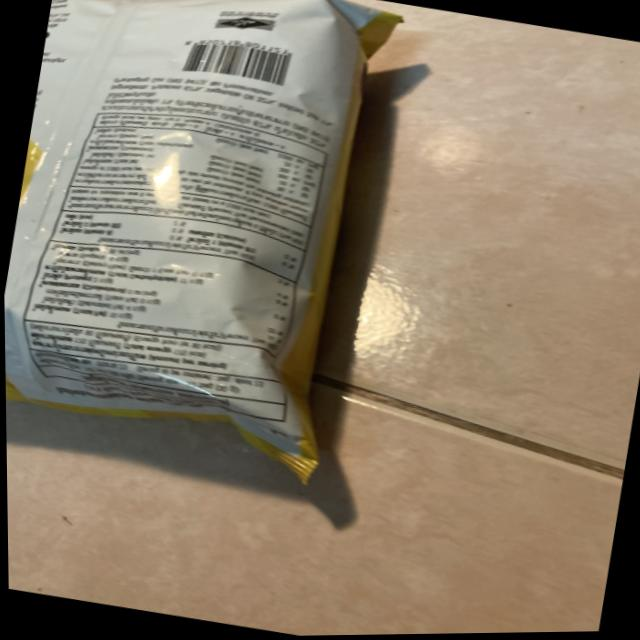LayYellow: (0, 0, 423, 501)
